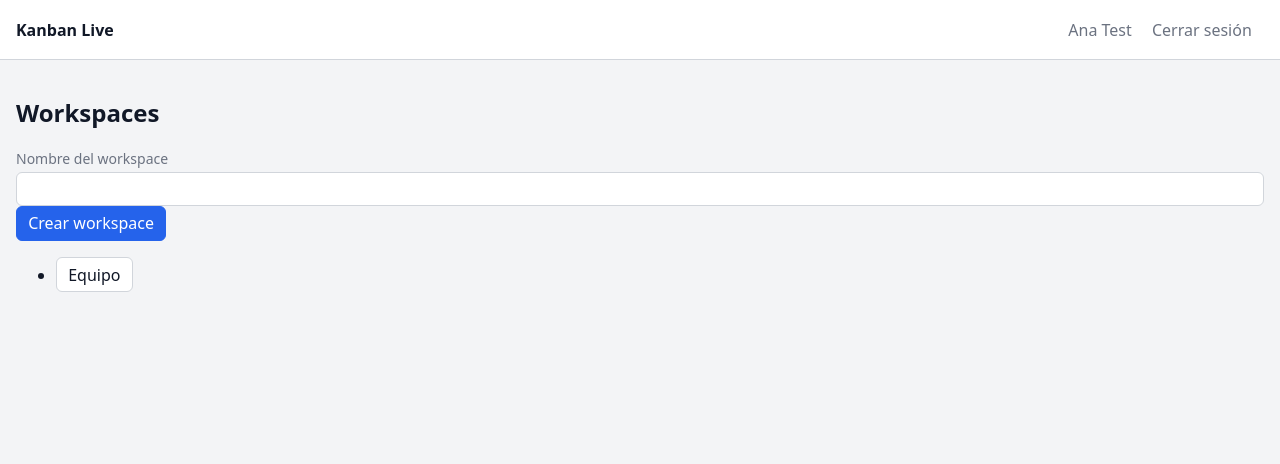
Scenario: routing workspace -> board › lista workspaces, crea un tablero y navega a el
Click the button "Equipo".
click(94, 275)  # box [56, 257, 133, 292]
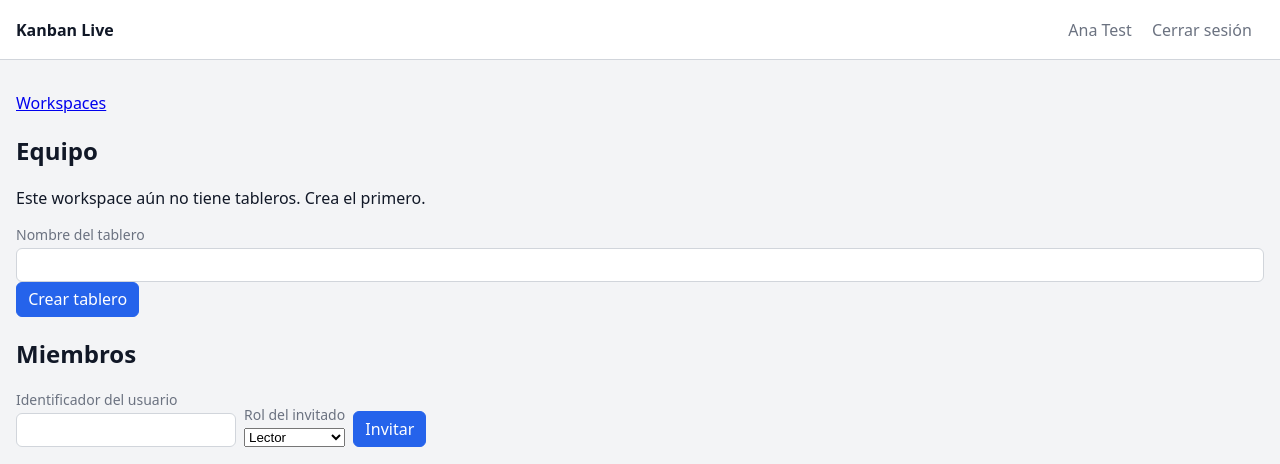
Type "Sprint 1" into the field labelled "Nombre del tablero".
click(640, 265); type("Sprint 1")  # box [16, 248, 1264, 282]
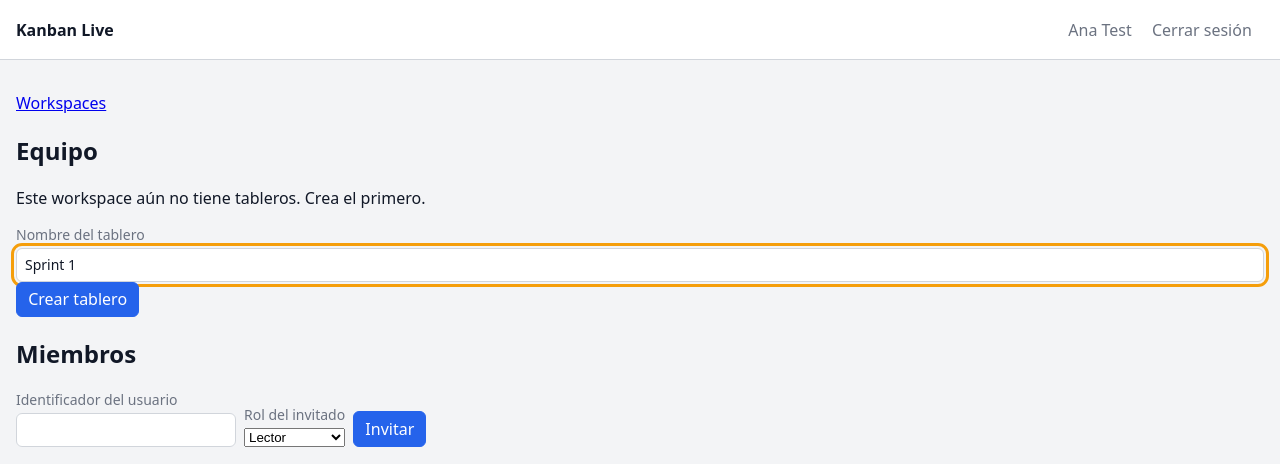
Click the button "Crear tablero".
click(78, 299)  # box [16, 282, 139, 317]
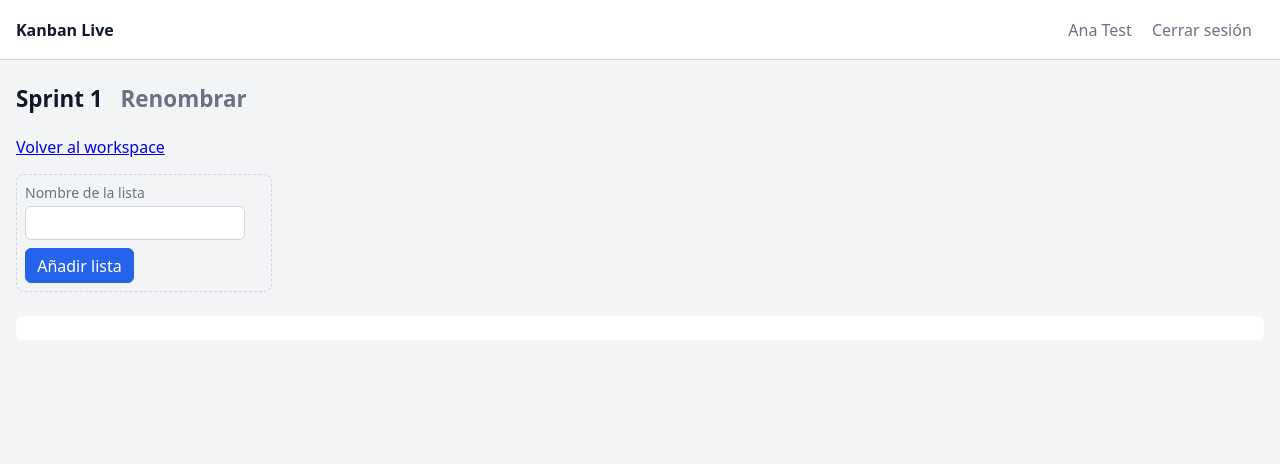
Check: the heading "Sprint 1 Renombrar" is shown, box [16, 76, 259, 120]
